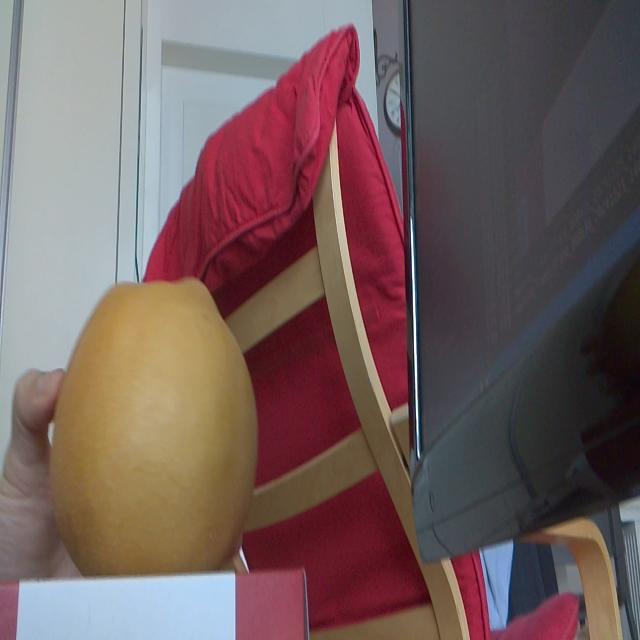pear: (48, 276, 268, 574)
